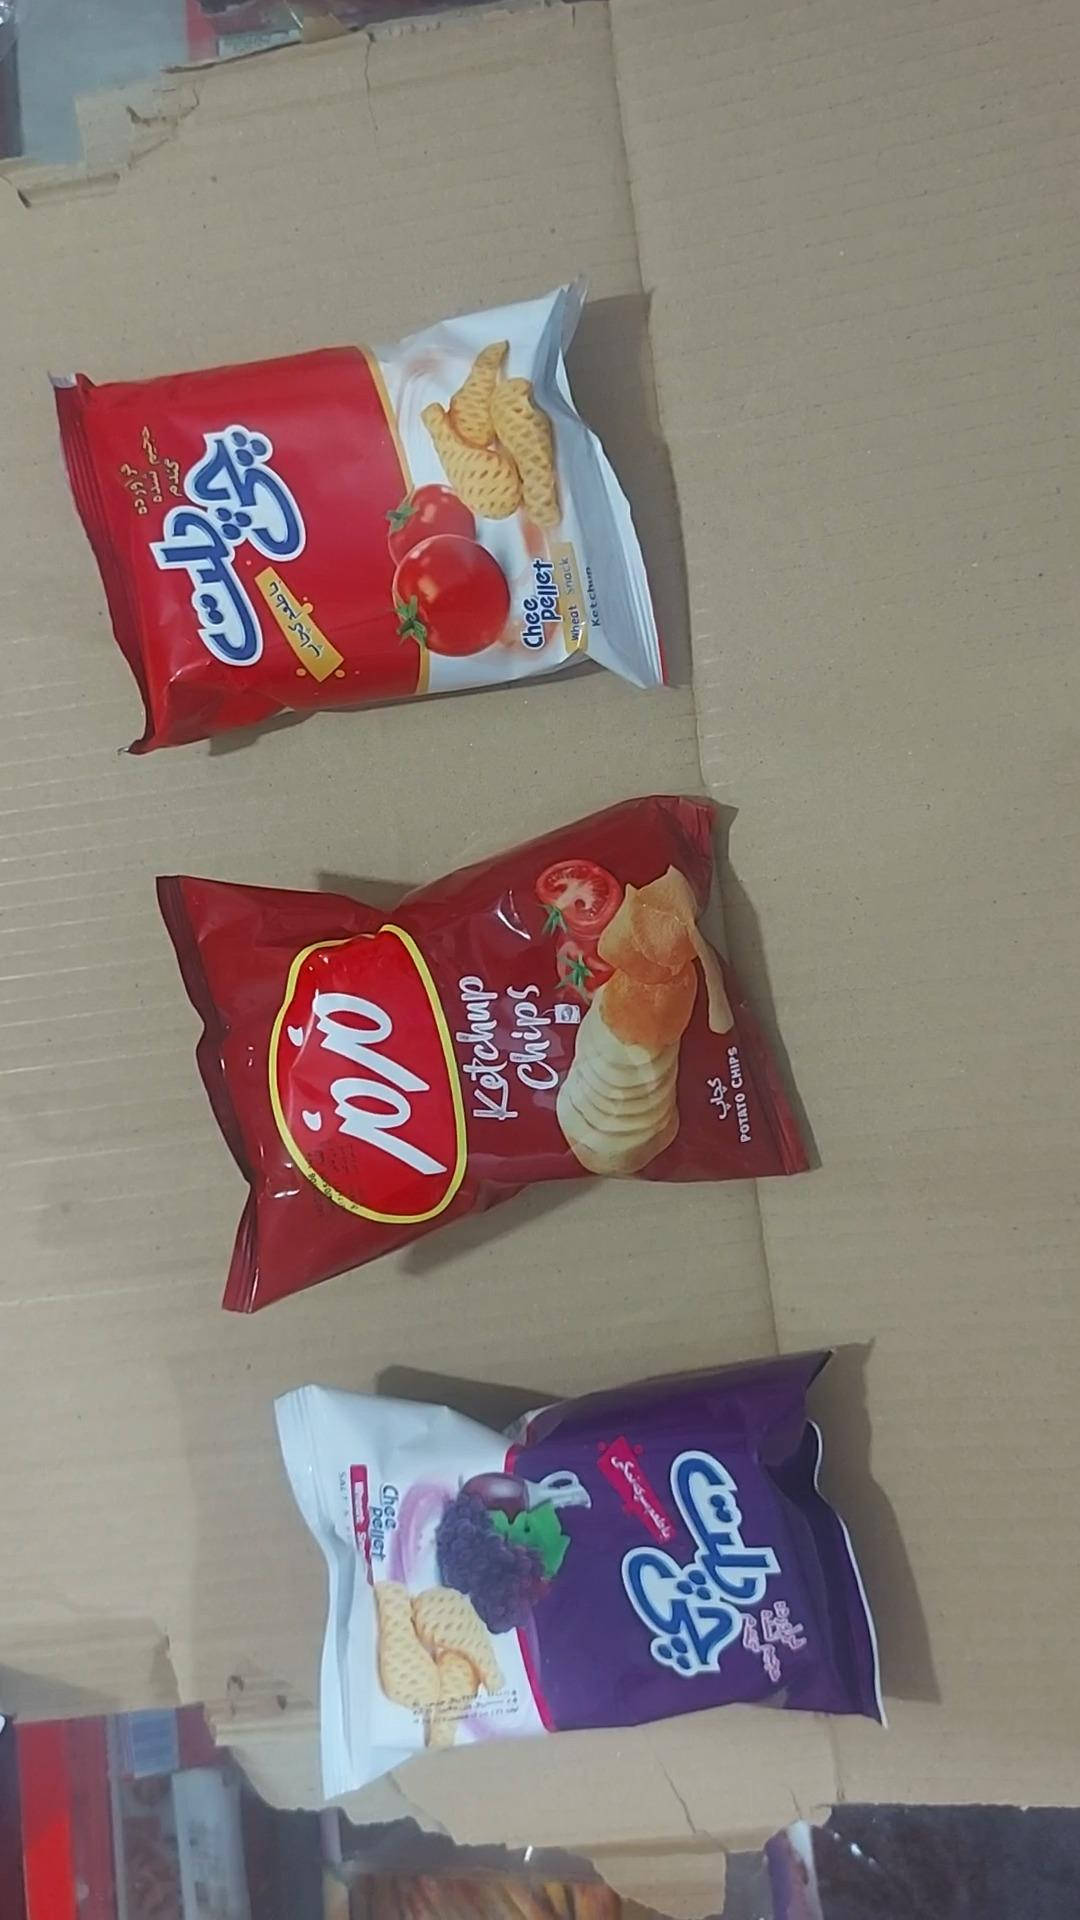Chee pellet ketchup: (55, 285, 665, 753)
Chee pellet vinegar: (277, 1353, 884, 1801)
Maz Maz ketchup chips: (158, 796, 808, 1312)
